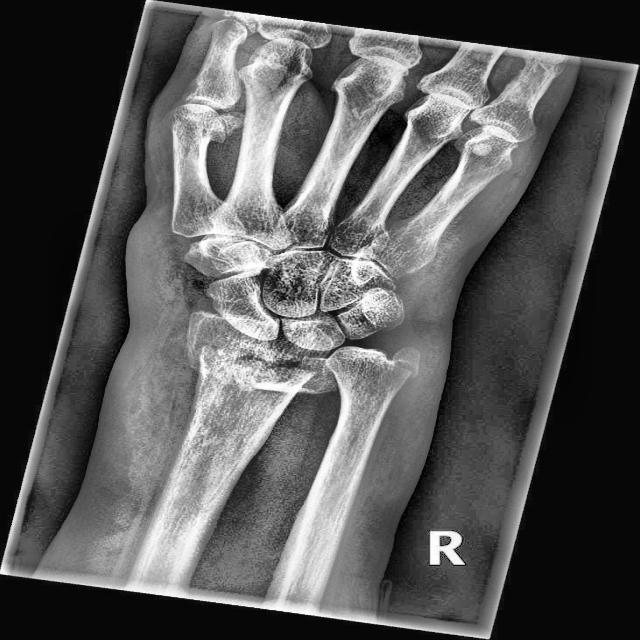line: (203, 344, 316, 375), (252, 383, 305, 393), (391, 360, 417, 378)
